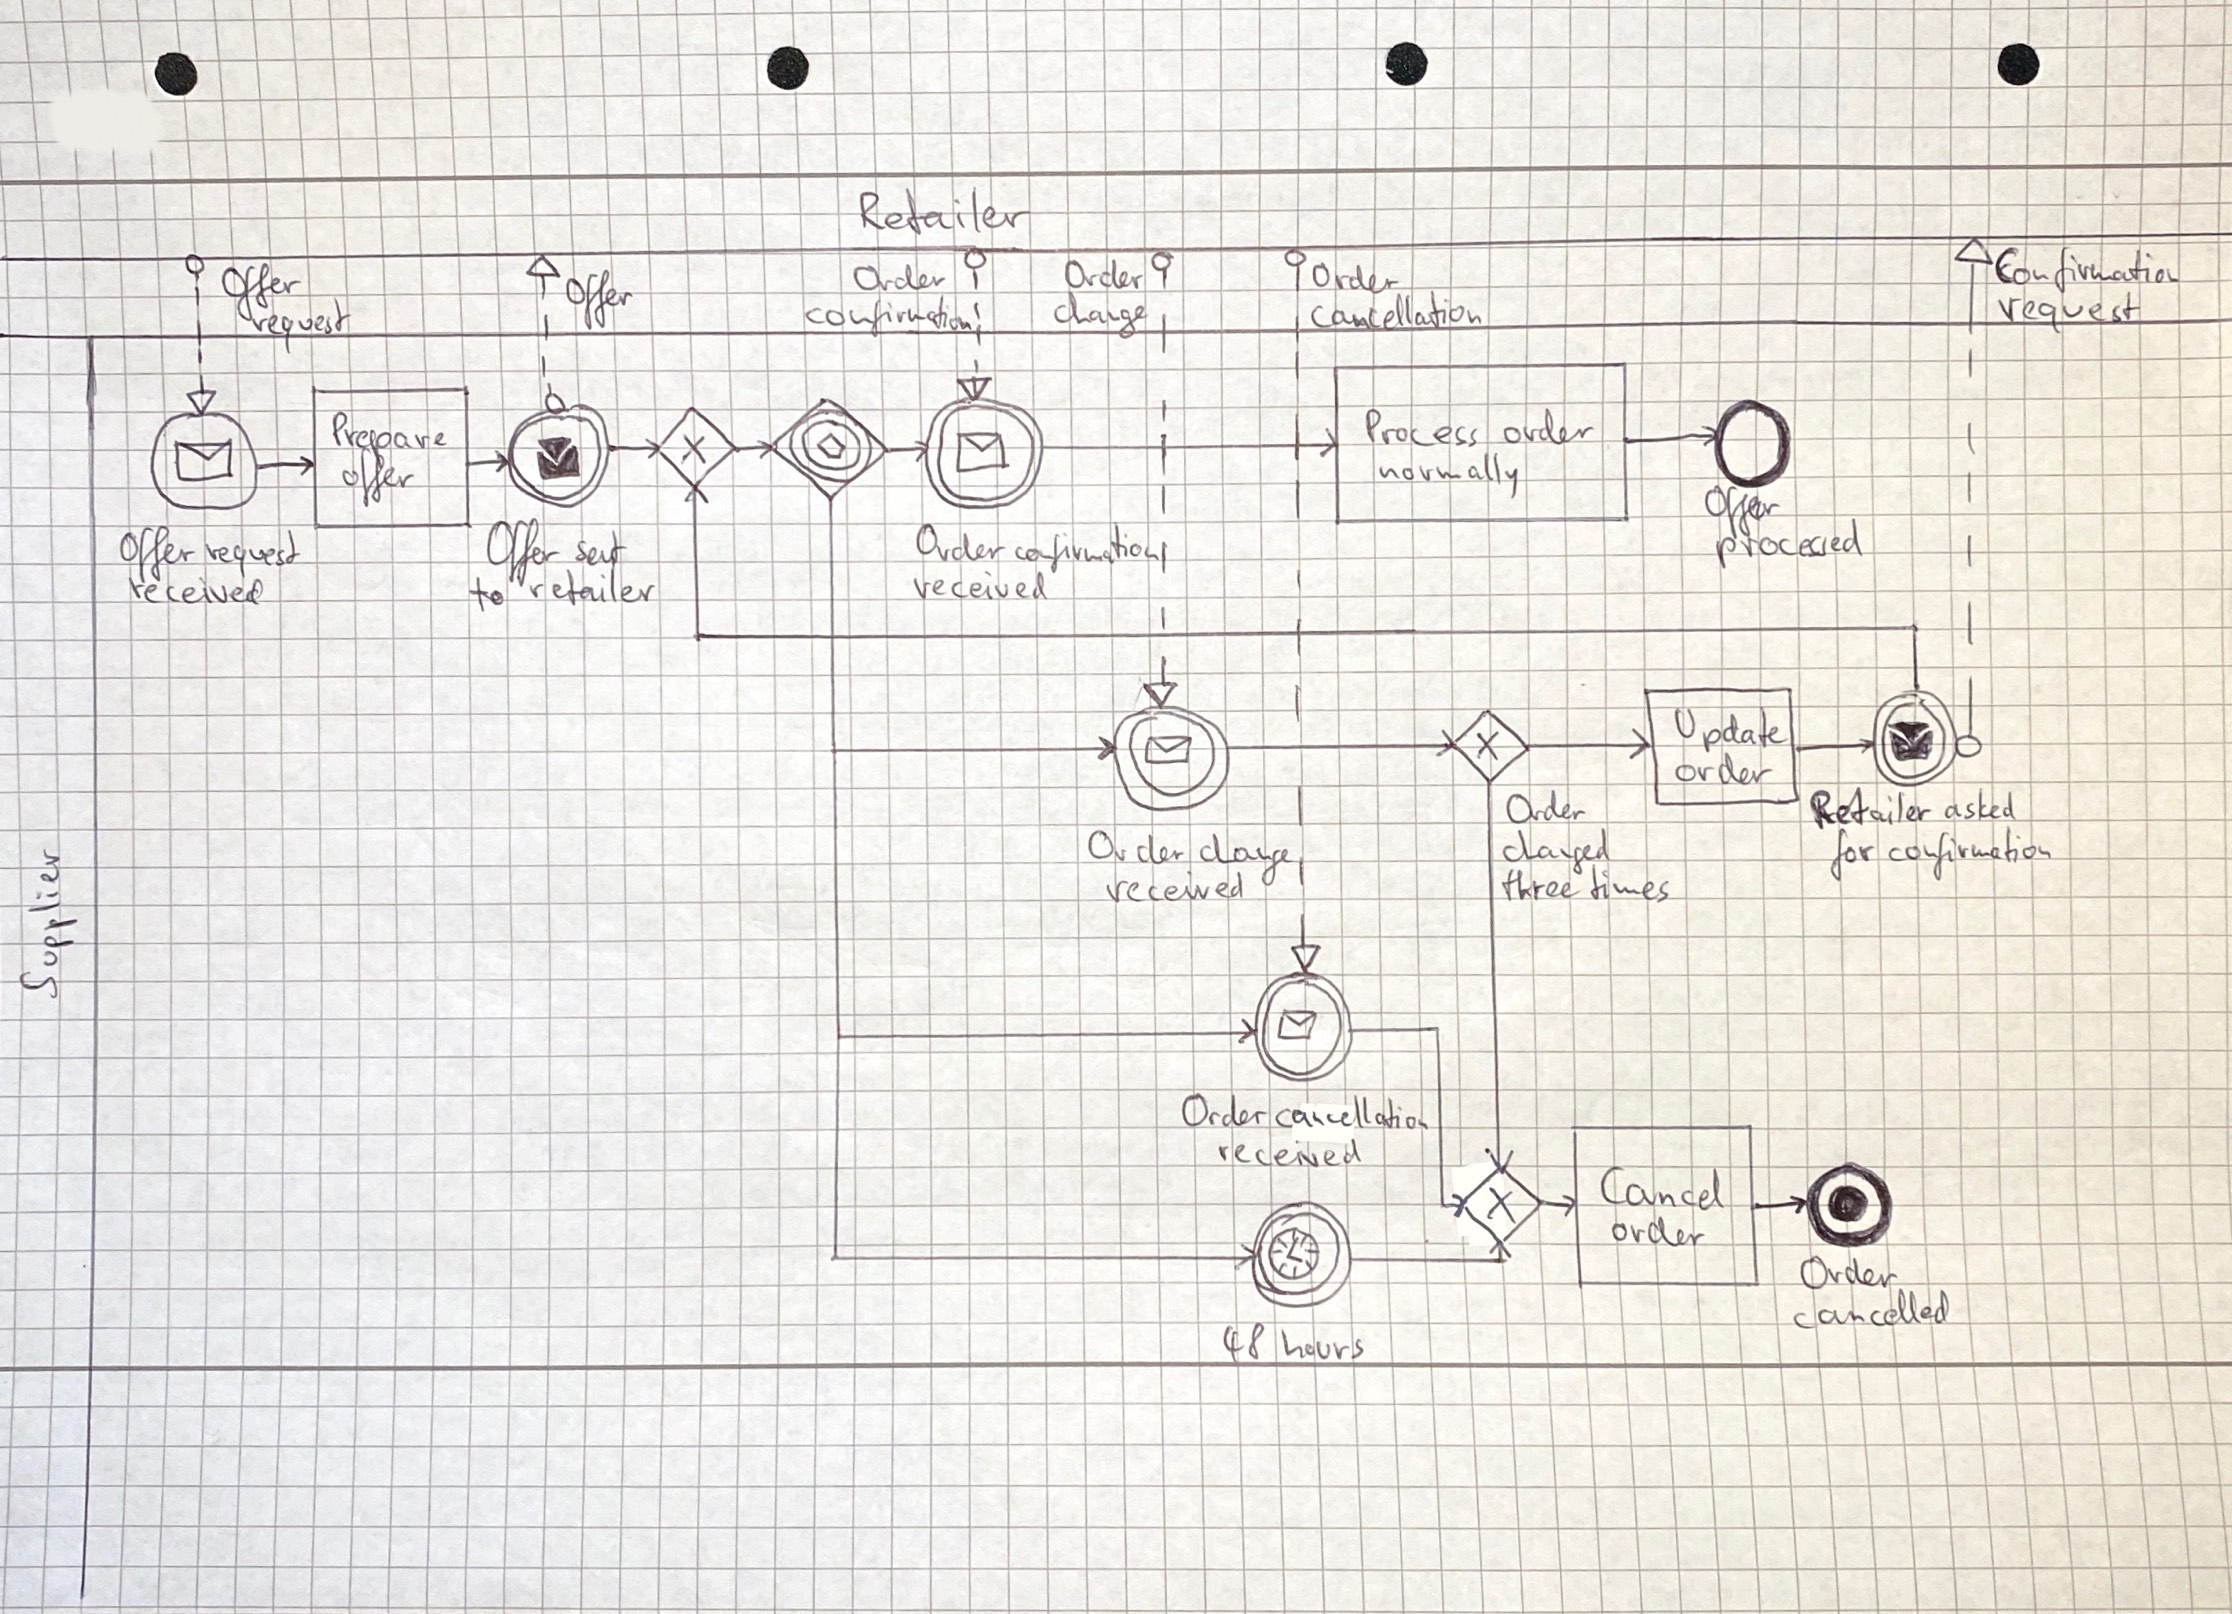48: (1215, 1319, 1270, 1364)
Cancel: (1598, 1165, 1738, 1219)
Confirmation: (1989, 239, 2183, 291)
Offer: (563, 258, 631, 324), (482, 515, 553, 574), (222, 264, 303, 303), (114, 529, 191, 570), (1700, 485, 1783, 522)
Order: (851, 257, 951, 296), (1305, 255, 1400, 296), (1061, 251, 1142, 298), (1090, 829, 1185, 869), (913, 525, 1000, 569), (1806, 1255, 1901, 1293), (1185, 1090, 1262, 1134), (1504, 791, 1587, 829)
Prepare: (326, 409, 451, 458)
Process: (1355, 409, 1480, 449)
Retailer: (854, 187, 1024, 241), (1813, 787, 1934, 830)
Supplier: (21, 851, 68, 999)
Update: (1672, 713, 1781, 758)
asked: (1941, 787, 2021, 829)
cancellation: (1307, 288, 1480, 335), (1268, 1092, 1435, 1136)
cancelled: (1792, 1288, 1950, 1335)
change: (1192, 832, 1300, 875), (1050, 296, 1159, 335)
changed: (1497, 827, 1613, 869)
confirmation: (1005, 529, 1159, 574), (1884, 829, 2055, 869), (806, 300, 965, 336)
for: (1825, 834, 1873, 877)
hours: (1284, 1324, 1366, 1368)
normally: (1381, 454, 1525, 496)
offer: (340, 452, 418, 496)
order: (1501, 406, 1605, 451), (1676, 752, 1775, 792), (1612, 1217, 1709, 1250)
processed: (1714, 518, 1868, 570)
received: (1107, 867, 1248, 908), (912, 570, 1064, 607), (125, 570, 269, 609), (1213, 1137, 1364, 1168)
request: (2002, 290, 2144, 326), (198, 529, 302, 574), (246, 298, 348, 342)
retailer: (523, 570, 657, 610)
sent: (560, 518, 631, 574)
three: (1497, 869, 1577, 907)
times: (1582, 869, 1672, 907)
to: (468, 577, 504, 614)
